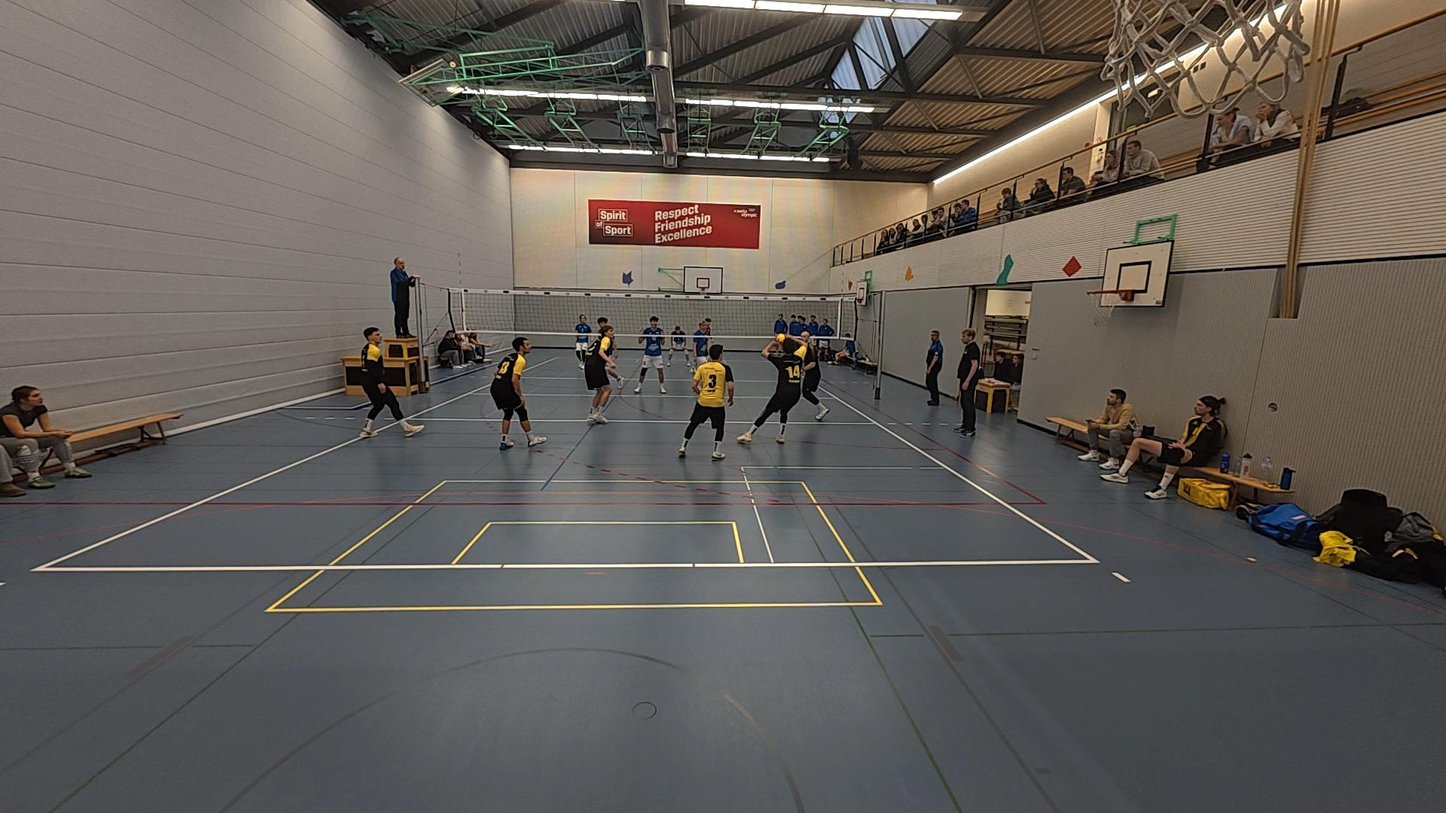ricezione: (736, 333, 813, 447)
